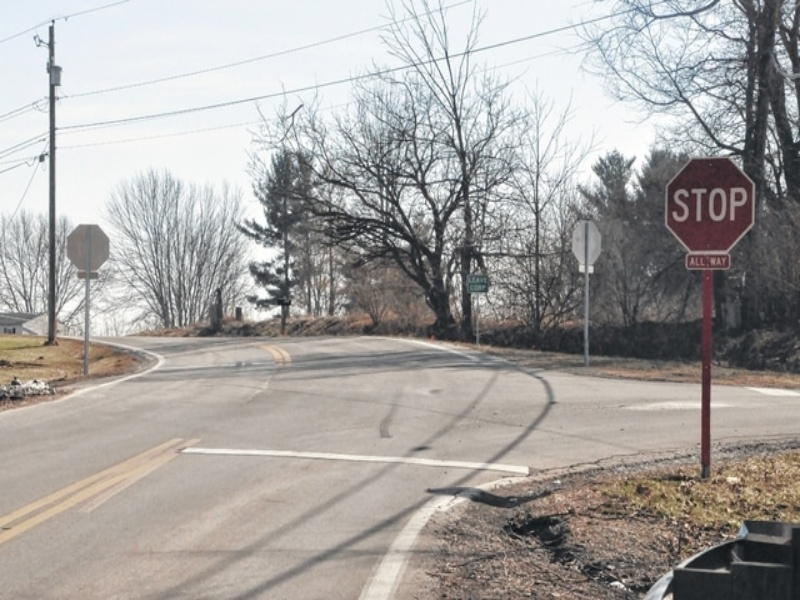stop sign: (660, 153, 760, 254)
